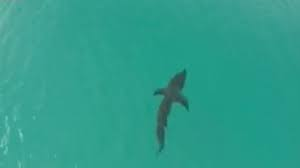shark: (148, 66, 192, 155)
